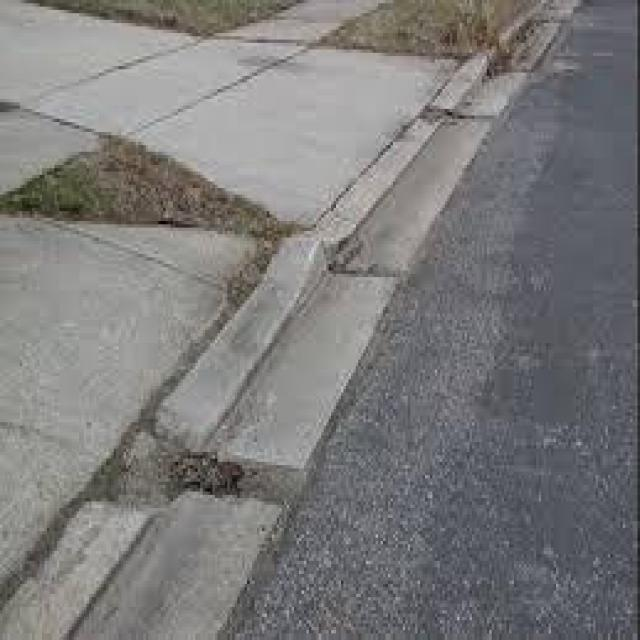curb: (158, 226, 404, 498), (6, 492, 291, 639), (309, 105, 502, 289)
